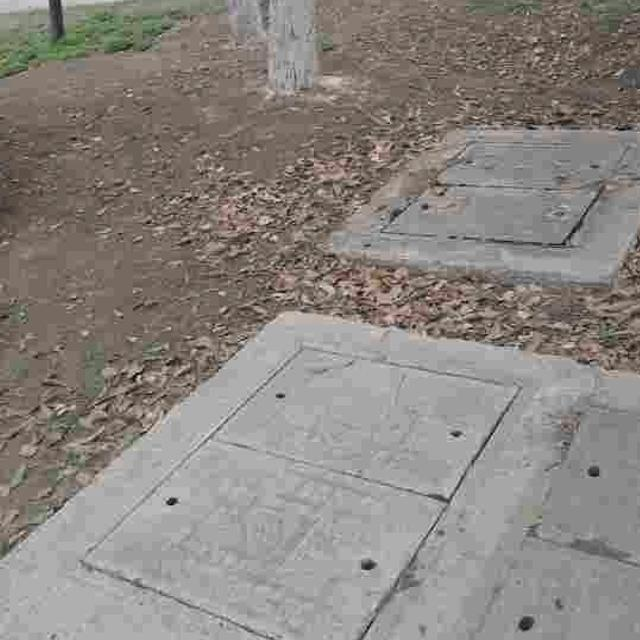good: (63, 337, 534, 640), (406, 394, 640, 640), (369, 134, 638, 256)
